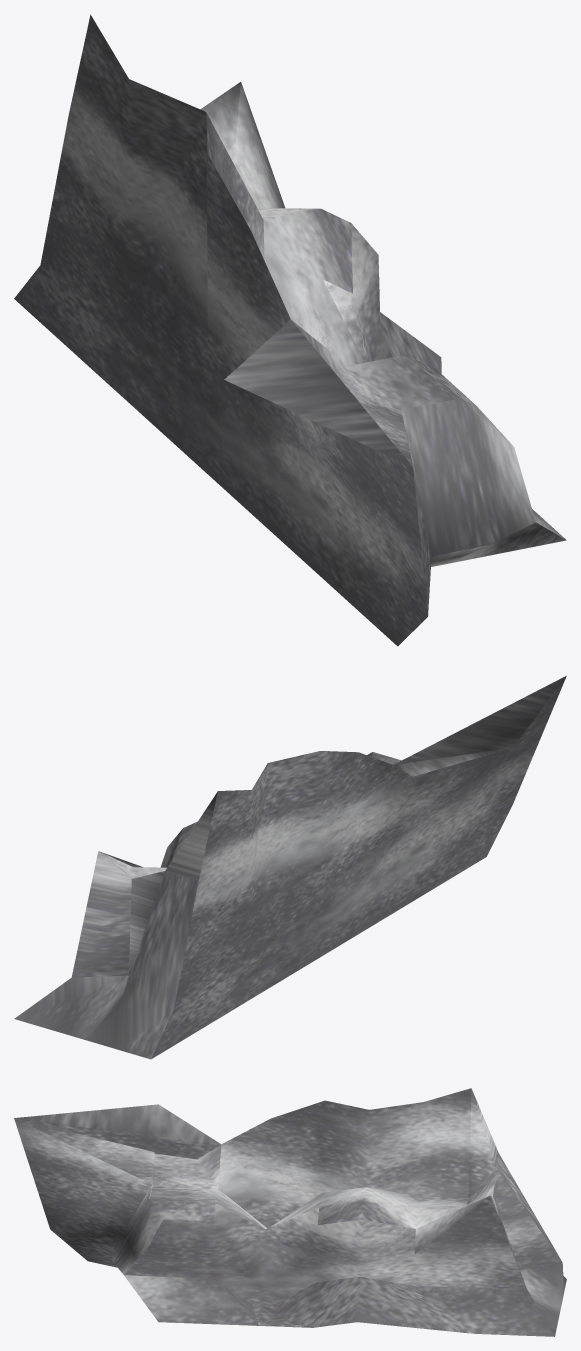
The model's file is Mountain25 - Level 1.FBX.
3 renders of one model, top to bottom at view 1: azimuth 30°, elevation 25°; view 2: azimuth 150°, elevation 25°; view 3: azimuth 270°, elevation 25°, orthographic. The views are drawn at different scales.
Visible parts, largest first — view 1: Mountain25; view 2: Mountain25; view 3: Mountain25.
Part boxes in pixels (x1=…): Mountain25: x1=14, y1=14, x2=566, y2=646; Mountain25: x1=14, y1=675, x2=566, y2=1059; Mountain25: x1=14, y1=1088, x2=566, y2=1336.
Size of the model in its own units: 111 by 92.3 by 247.
1 material, 1 textured.
